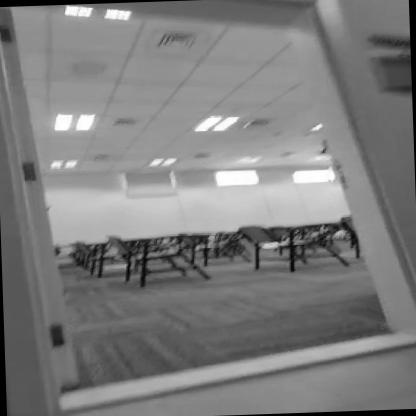open: (34, 0, 358, 385)
